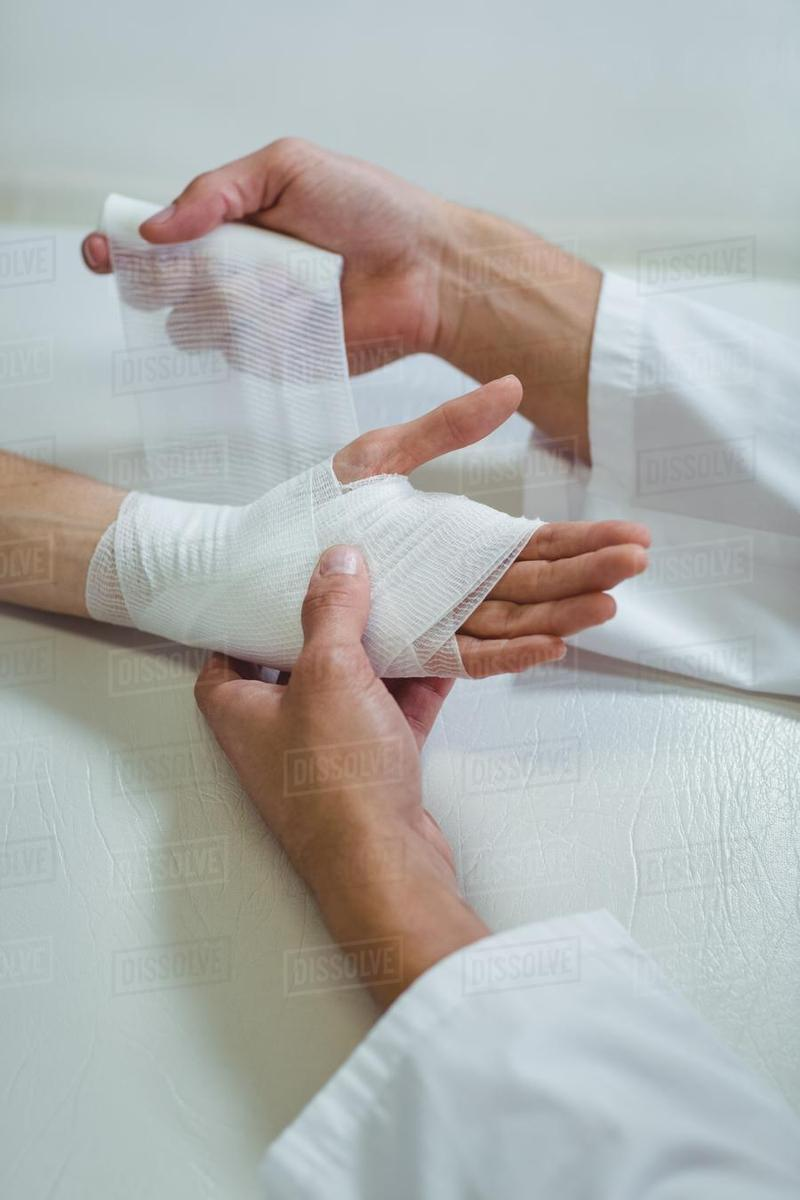injured: (61, 197, 712, 784)
